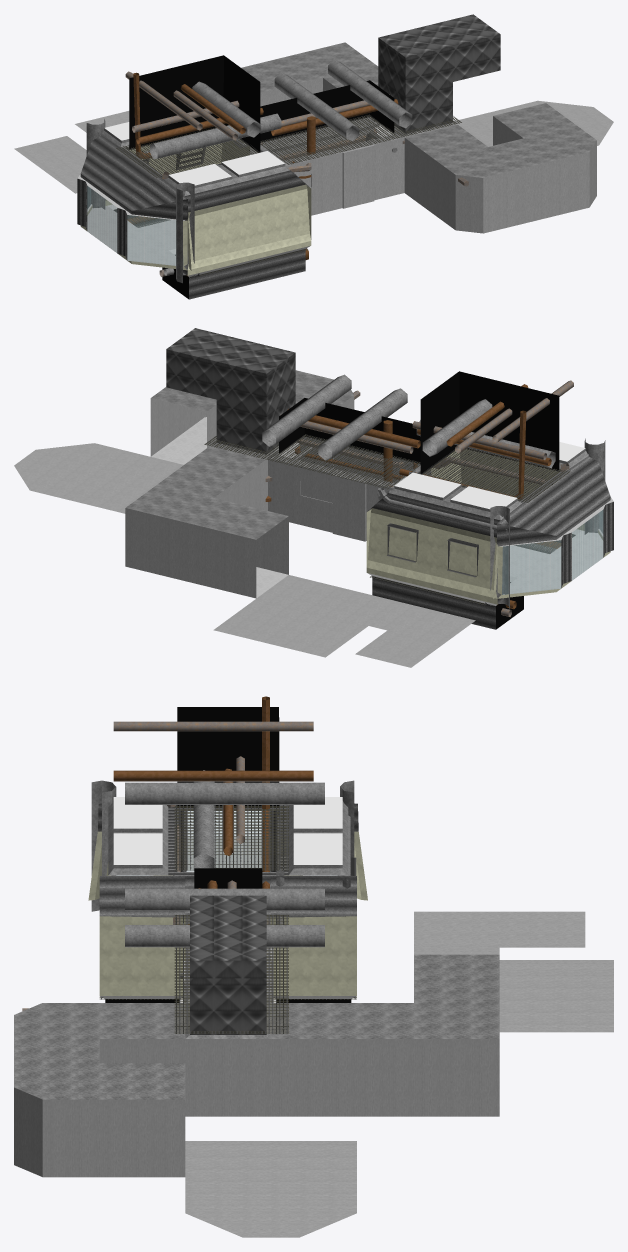
The model's file is map_mesh.obj.
3 views of the same model, one above another, from view 1: azimuth 30°, elevation 25°; view 2: azimuth 150°, elevation 25°; view 3: azimuth 270°, elevation 25° (orthographic). The views are drawn at different scales.
Visible parts, largest first — view 1: map_mesh, pipe, vent (1), vent, pipe (3), pipe (7), pipe (5), pipe (4), pipe (6); view 2: map_mesh, pipe, vent (1), vent, pipe (7), pipe (3), pipe (5), pipe (4); view 3: map_mesh, pipe, vent, vent (1), pipe (3), pipe (7).
Boxes of the visible parts, <box> form: map_mesh: <box>14,14,613,299</box>; pipe: <box>86,71,468,283</box>; vent (1): <box>260,114,461,164</box>; vent: <box>116,127,261,177</box>; pipe (3): <box>274,73,359,141</box>; pipe (7): <box>328,60,412,128</box>; pipe (5): <box>271,99,398,135</box>; pipe (4): <box>281,94,389,126</box>; pipe (6): <box>260,128,376,160</box>; map_mesh: <box>14,328,613,667</box>; pipe: <box>265,380,605,616</box>; vent (1): <box>204,434,420,489</box>; vent: <box>419,448,570,502</box>; pipe (7): <box>262,374,351,446</box>; pipe (3): <box>318,388,407,460</box>; pipe (5): <box>287,409,420,448</box>; pipe (4): <box>280,415,413,453</box>; map_mesh: <box>14,707,613,1237</box>; pipe: <box>22,696,354,1011</box>; vent: <box>174,805,288,870</box>; vent (1): <box>174,914,288,1033</box>; pipe (3): <box>125,888,324,910</box>; pipe (7): <box>125,925,324,947</box>.
Size of the model in its own units: 29.22 by 9.86 by 21.
Materials: 15 (13 with a texture image).
